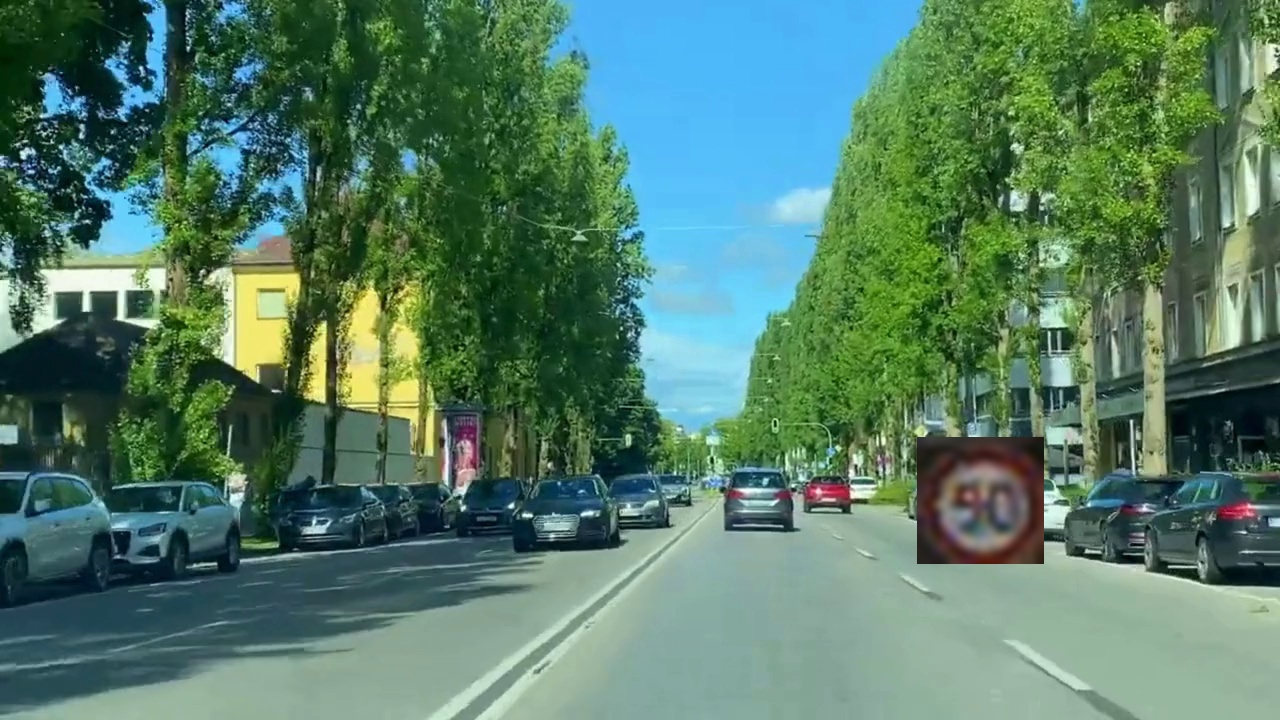Speed 50: (917, 437, 1044, 564)
